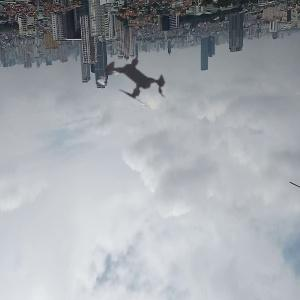drone: (84, 26, 193, 135)
